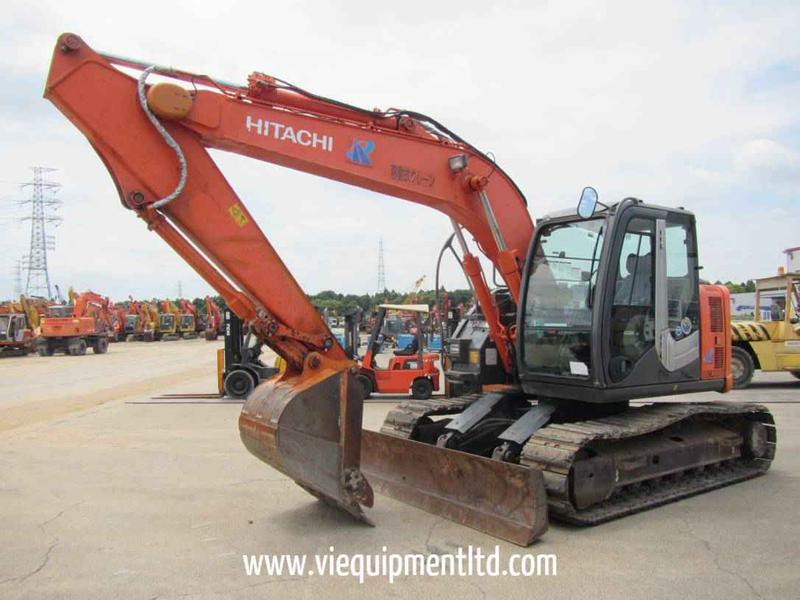shovel: (36, 27, 778, 545)
